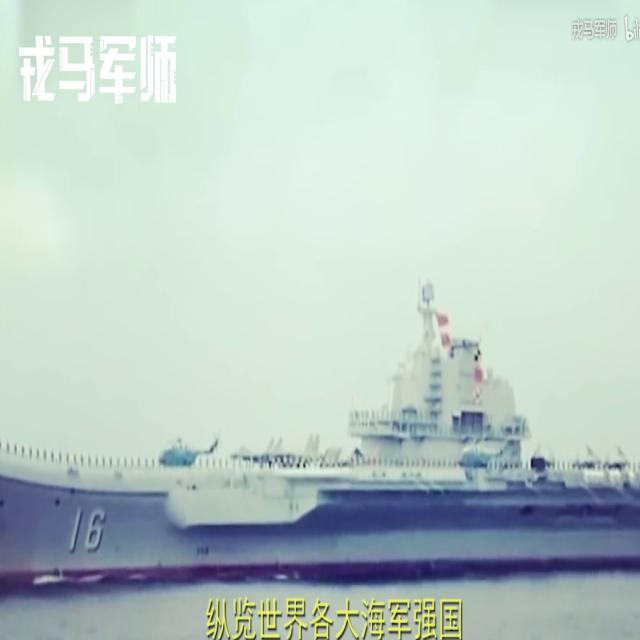navalvessels: (0, 263, 640, 601)
